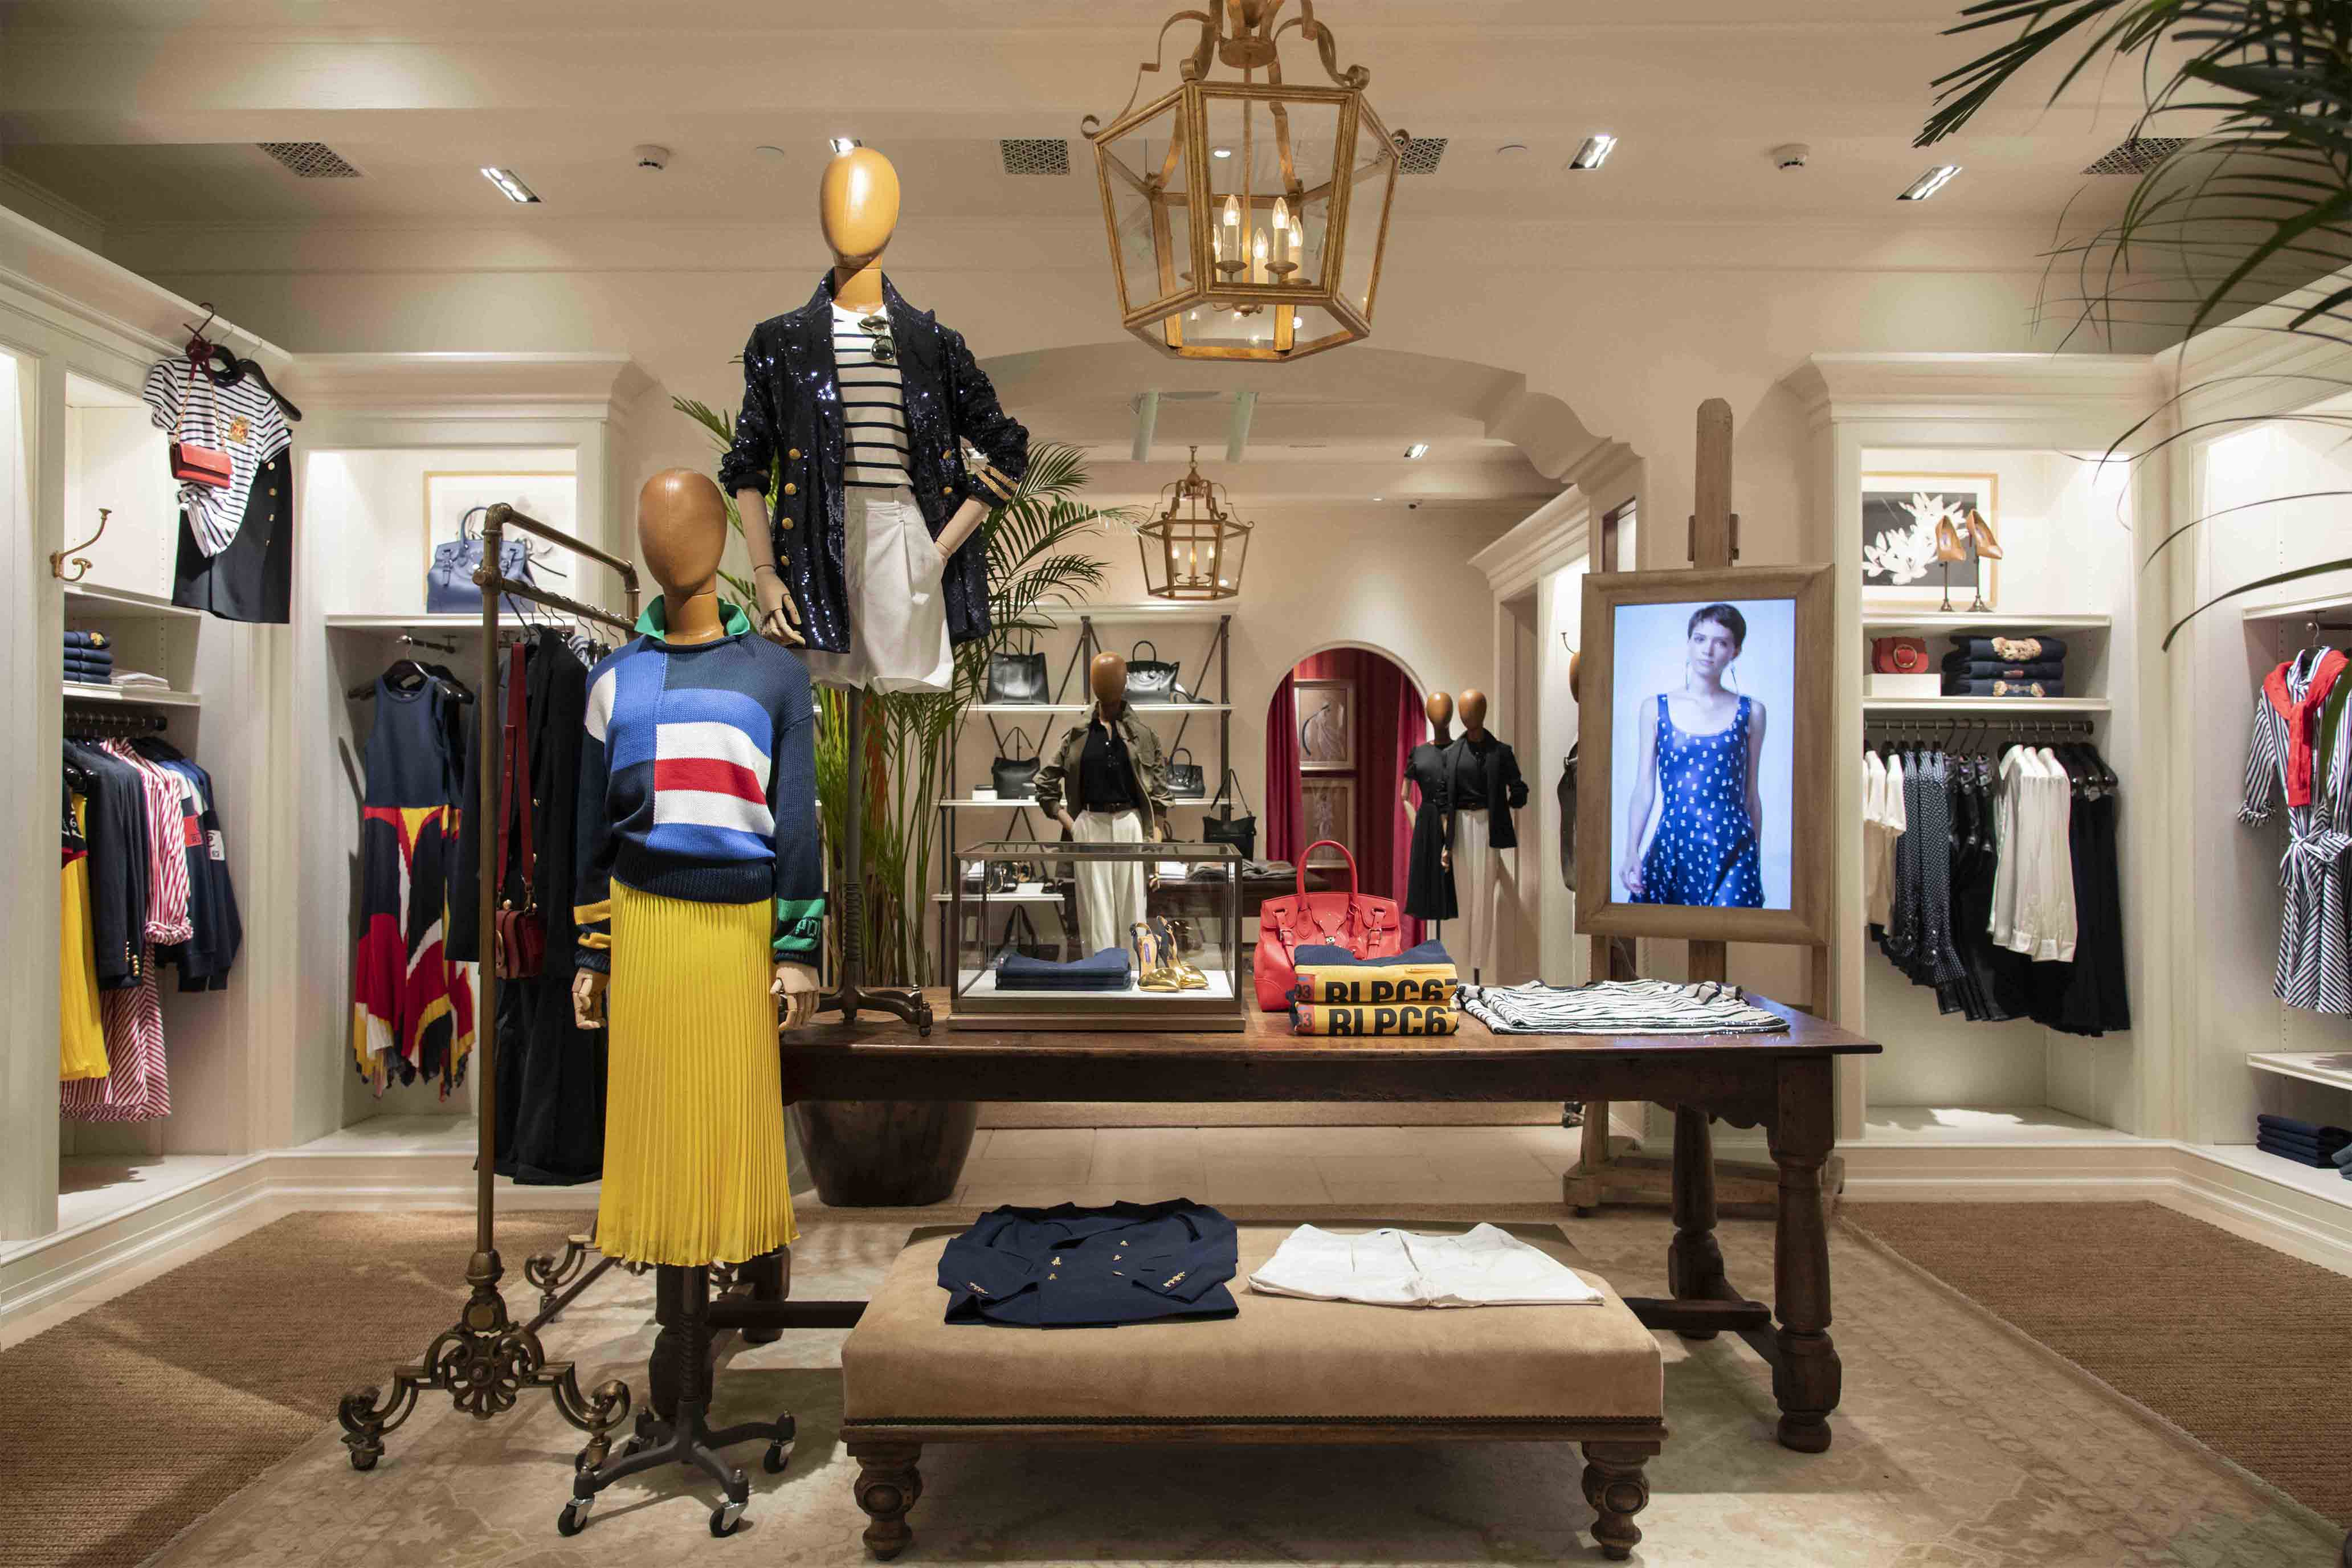person-like: (545, 464, 839, 1371), (721, 138, 1043, 722), (1029, 646, 1170, 972), (1428, 675, 1534, 991), (1396, 689, 1460, 922)
